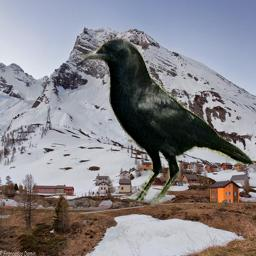Crow: (79, 38, 255, 204)
